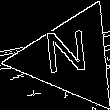N_S: (45, 31, 94, 85)
